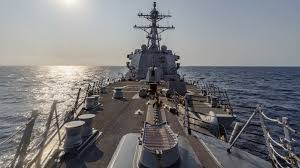tau_muctieu: (48, 15, 281, 168)
